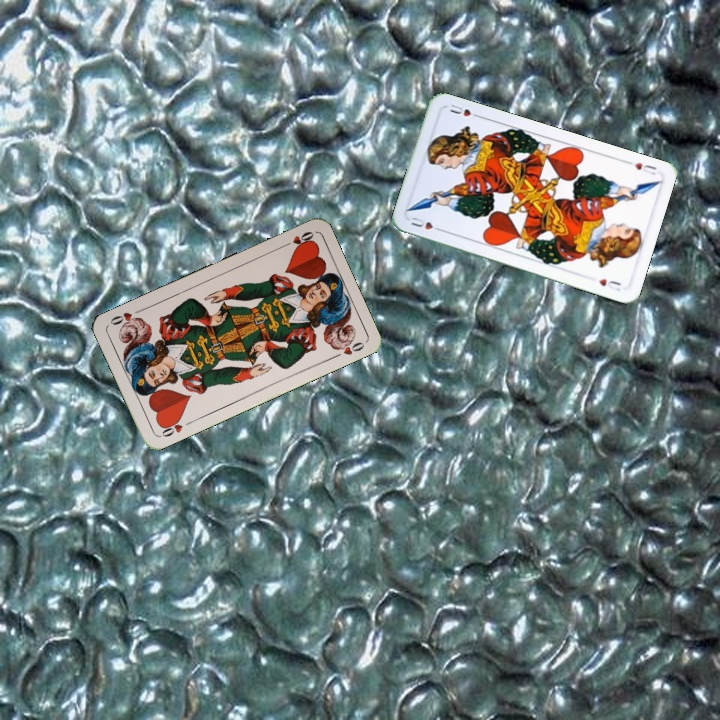HO: (157, 414, 195, 440), (278, 227, 317, 251)
HU: (407, 212, 446, 234), (630, 158, 659, 177)
